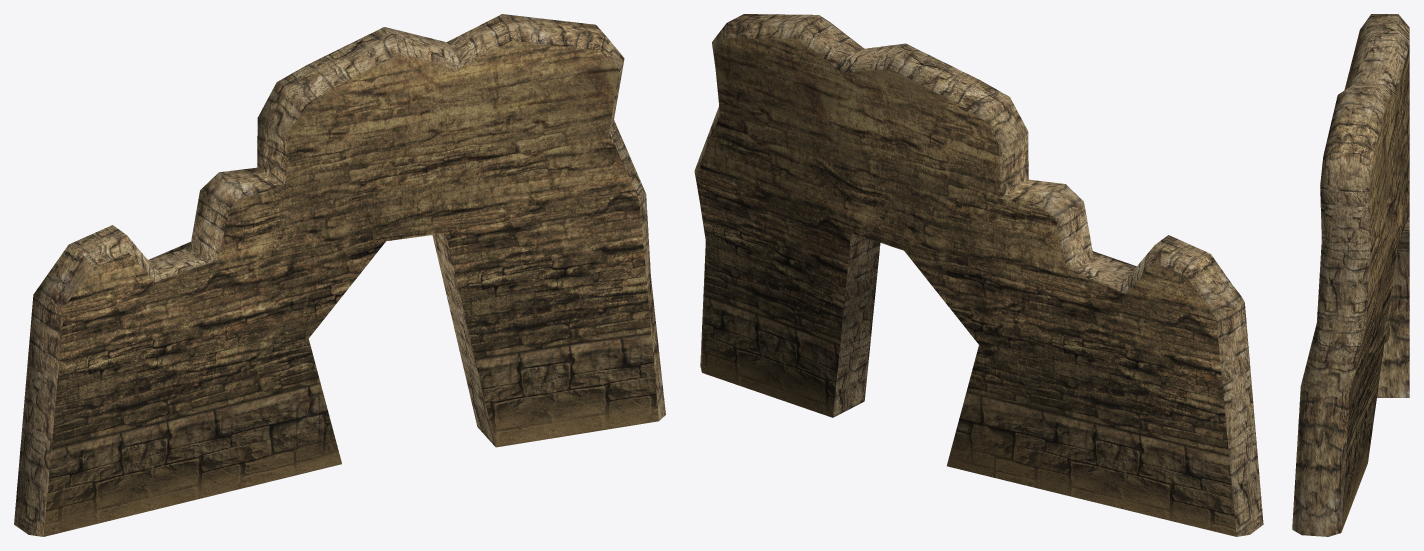
Rendered from SandstoneRuins7.fbx.
3 renders of one model, left to right at view 1: azimuth 30°, elevation 25°; view 2: azimuth 150°, elevation 25°; view 3: azimuth 270°, elevation 25°, orthographic. The views are drawn at different scales.
Parts seen in each view (by area): view 1: Object015; view 2: Object015; view 3: Object015.
Part boxes in pixels (<box>): Object015: <box>14,14,665,536</box>; Object015: <box>694,14,1263,536</box>; Object015: <box>1292,14,1409,536</box>.
Bounding box in the file's own units: 570 × 366 × 99.98.
